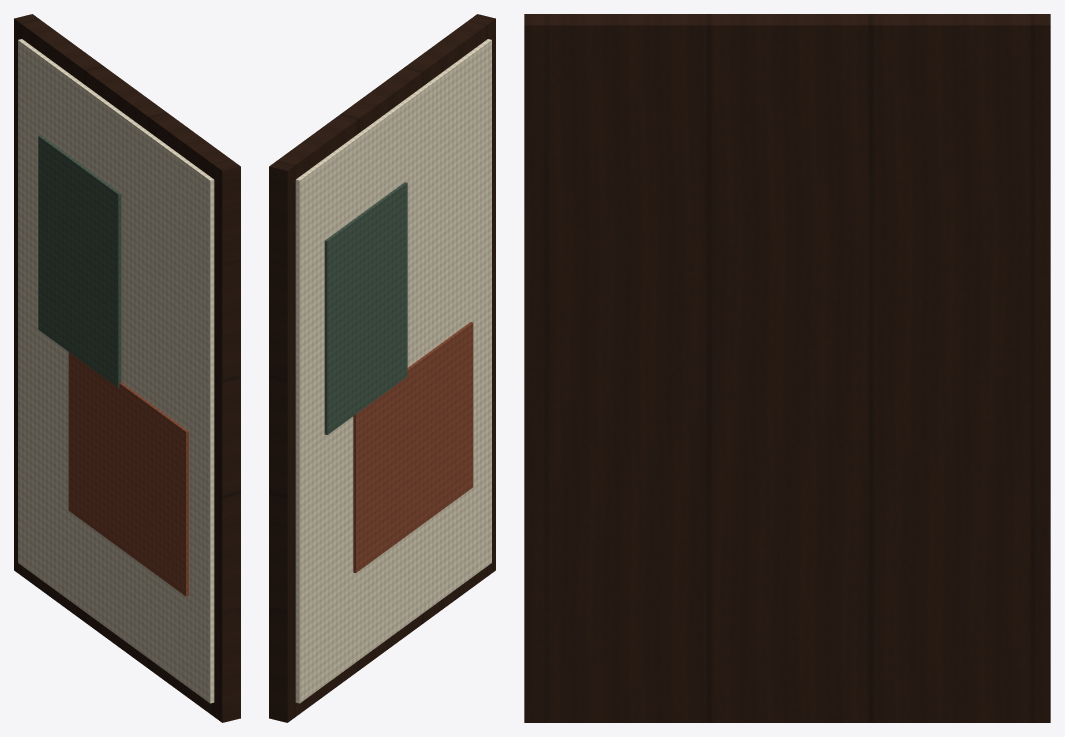
Rendered from art_dining.obj.
3 views of the same model, side by side, from view 1: azimuth 30°, elevation 25°; view 2: azimuth 150°, elevation 25°; view 3: azimuth 270°, elevation 25° (orthographic). The views are drawn at different scales.
Visible parts, largest first — view 1: art_dining_linen, art_dining_walnut, art_dining_clay, art_dining_sage; view 2: art_dining_linen, art_dining_walnut, art_dining_clay, art_dining_sage; view 3: art_dining_walnut.
Part boxes in pixels (box(x1,y1,x2,y2)): art_dining_linen: box(18, 39, 214, 703); art_dining_walnut: box(14, 14, 240, 722); art_dining_clay: box(68, 352, 188, 596); art_dining_sage: box(38, 135, 121, 387); art_dining_linen: box(295, 39, 491, 703); art_dining_walnut: box(269, 14, 495, 722); art_dining_clay: box(353, 322, 473, 572); art_dining_sage: box(324, 182, 407, 434); art_dining_walnut: box(524, 14, 1050, 722).
Bounding box in the file's own units: 2.85 × 57 × 39.
4 materials, 4 textured.
